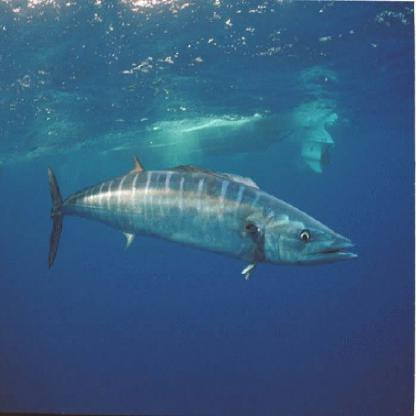tuna: (39, 149, 360, 284)
